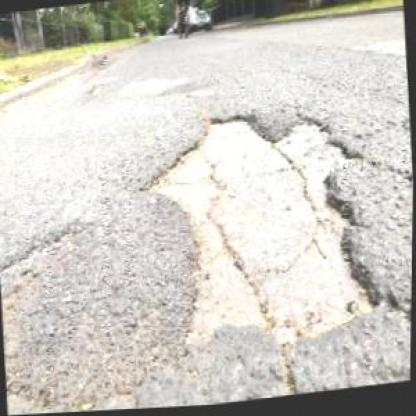pothole: (136, 96, 392, 359)
